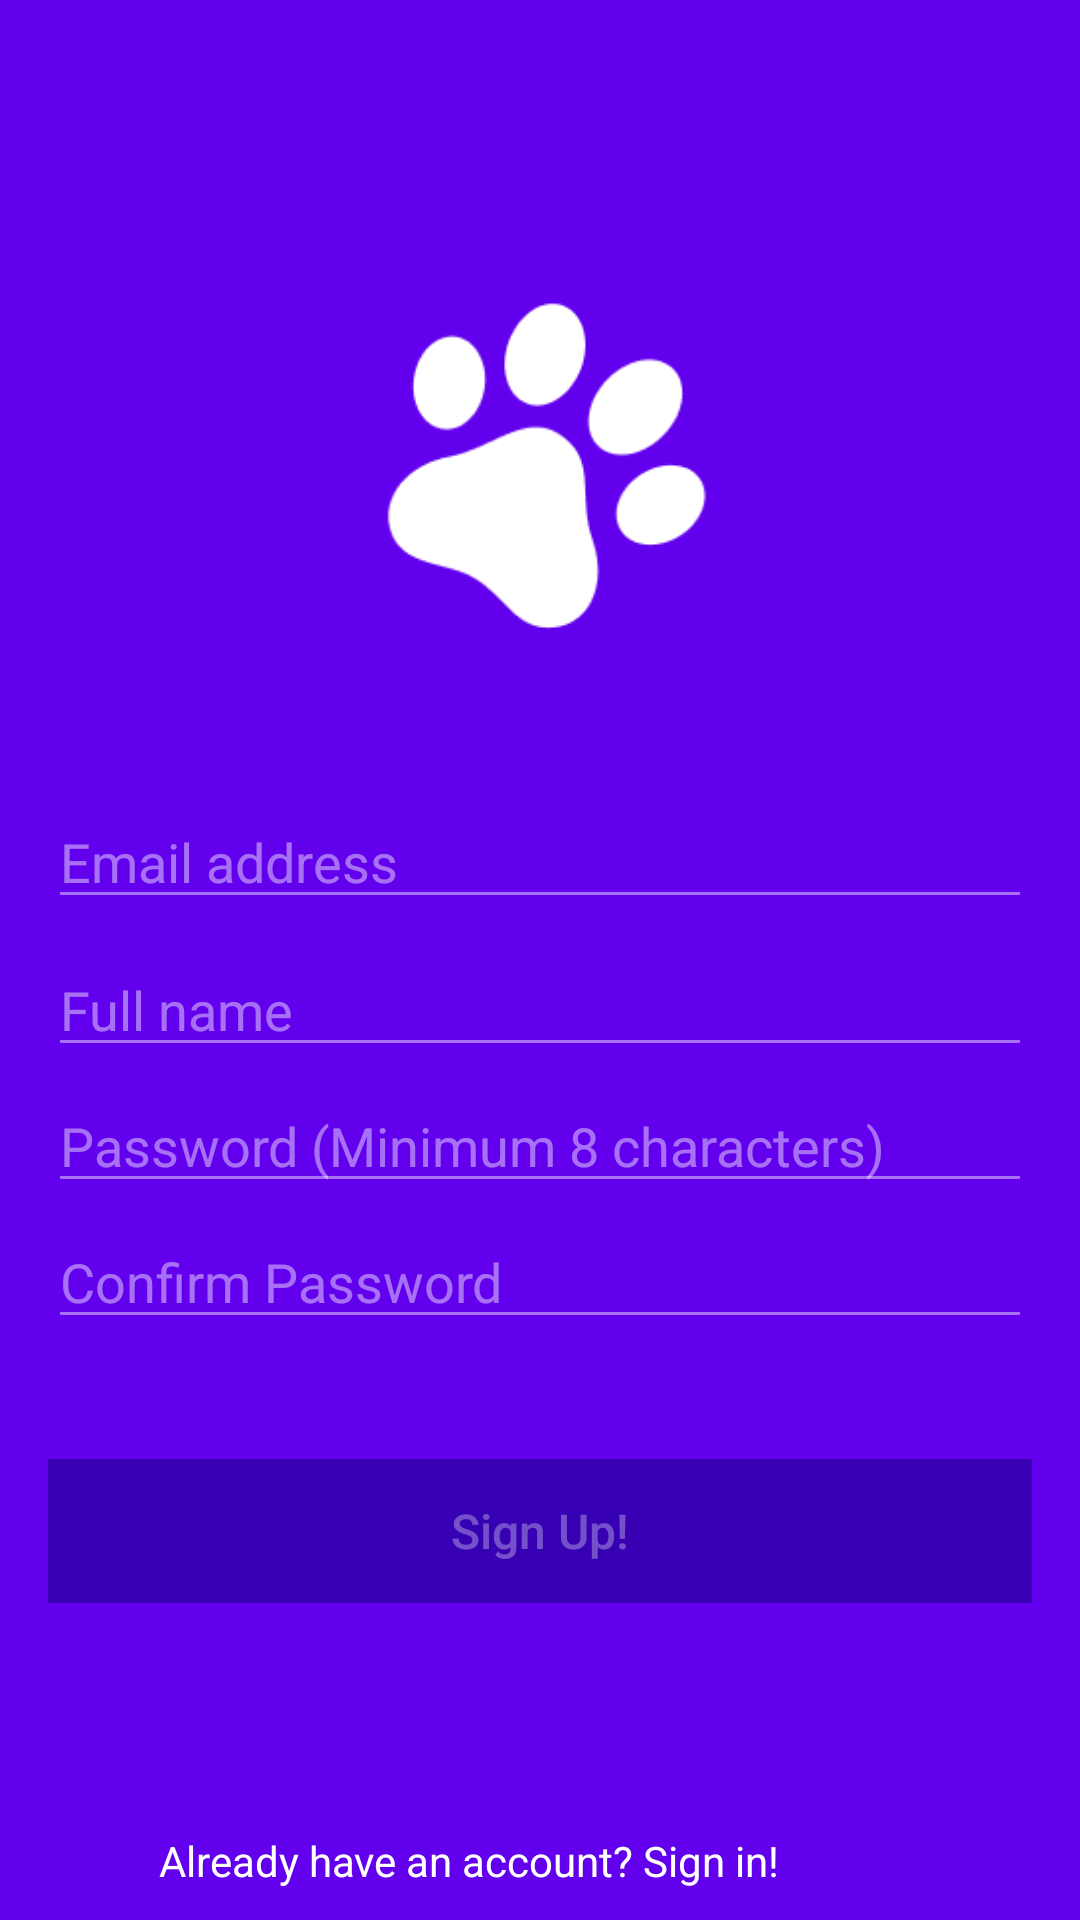

Named icons in this screenshot (1080w x 1920h) and their centers, (x=x, y=y):
mypaws hero: (x=546, y=466)
